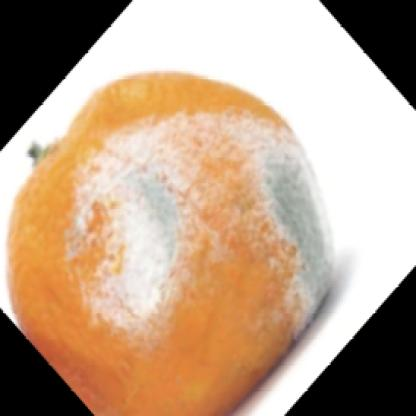rotten: (7, 70, 334, 416)
